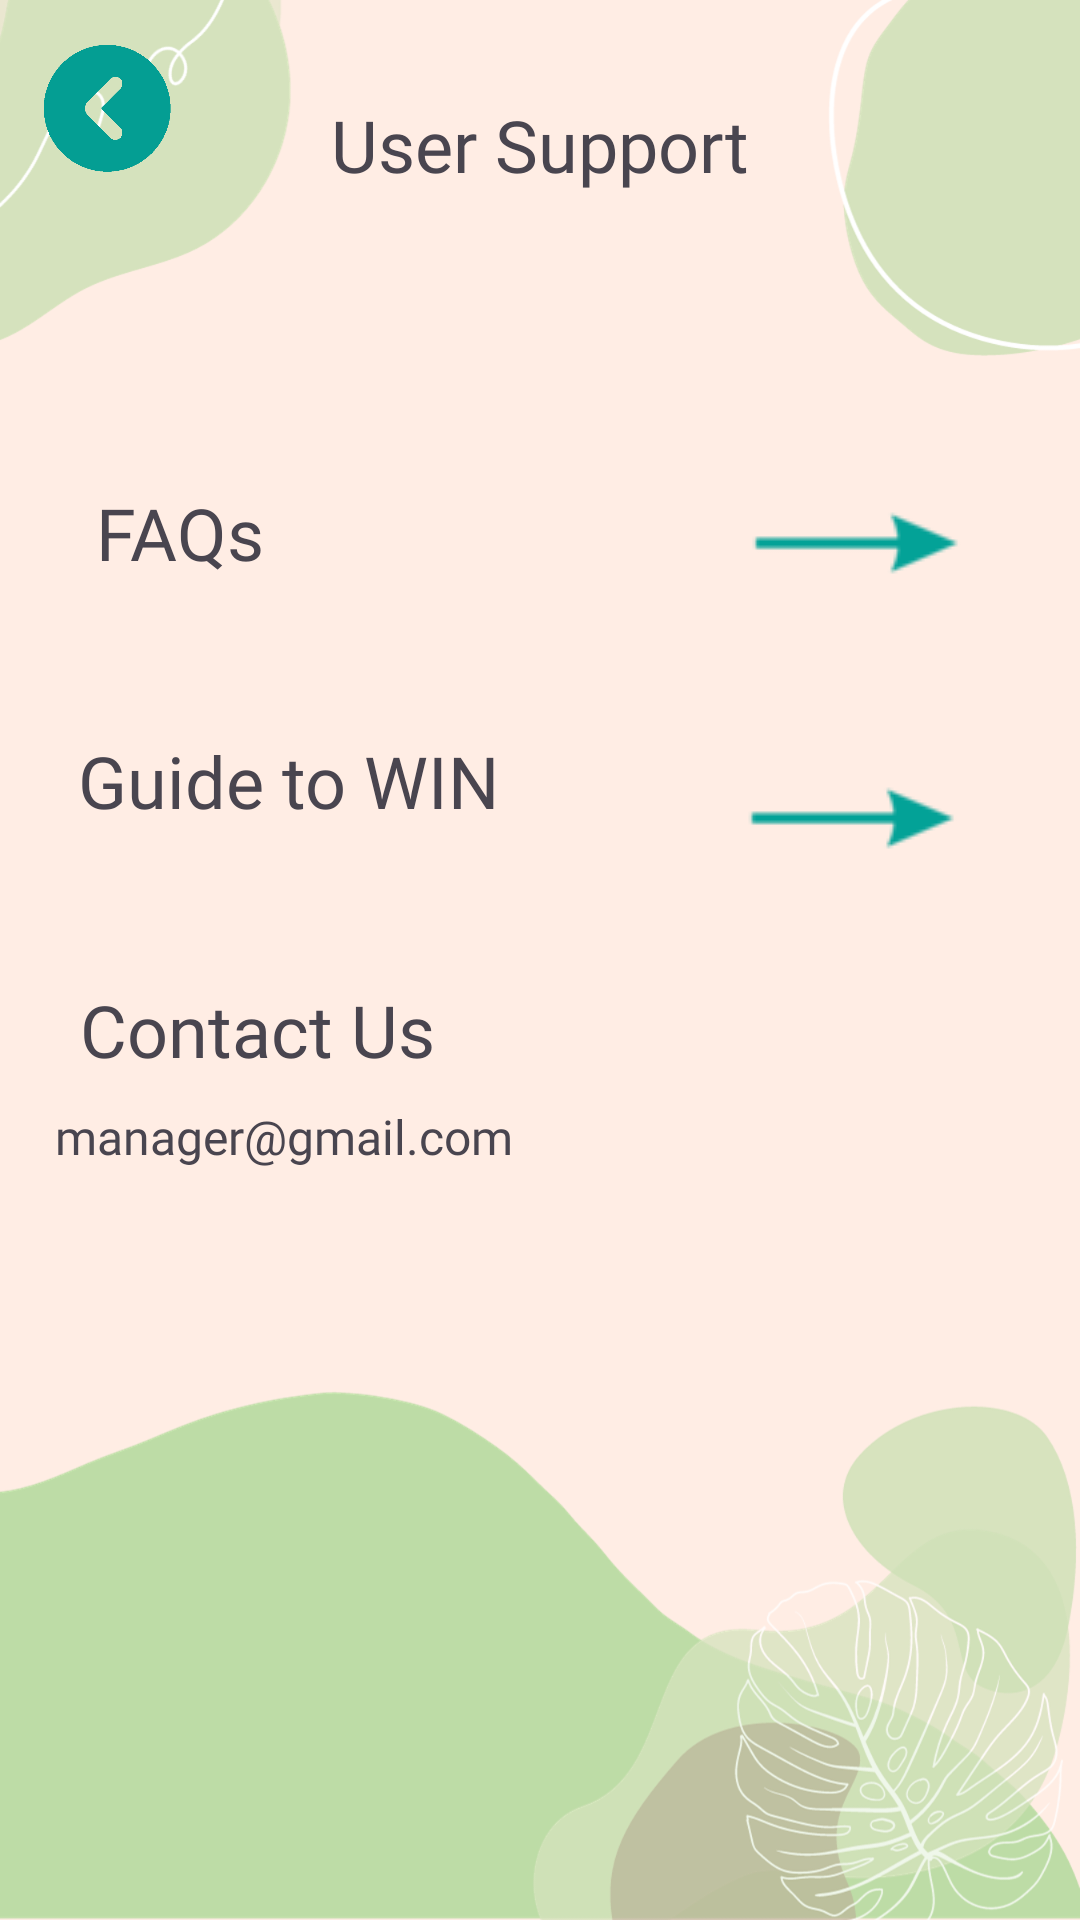

Where to tap for icons on this 1080px x 1920px app screen, as point (x, y):
backicon: point (107, 108)
right arrow: point (855, 543), point (852, 818)
